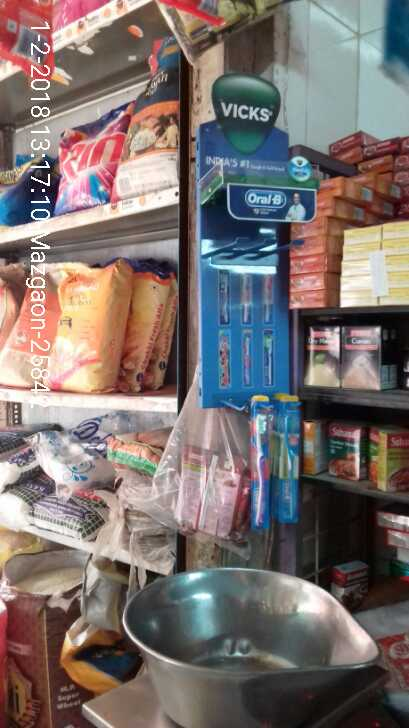oralb: (246, 401, 274, 521), (272, 414, 300, 523)
